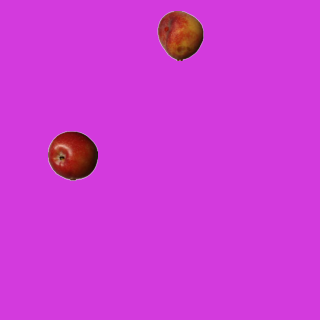Apple Braeburn: (47, 130, 97, 180)
Peach: (155, 10, 205, 60)
